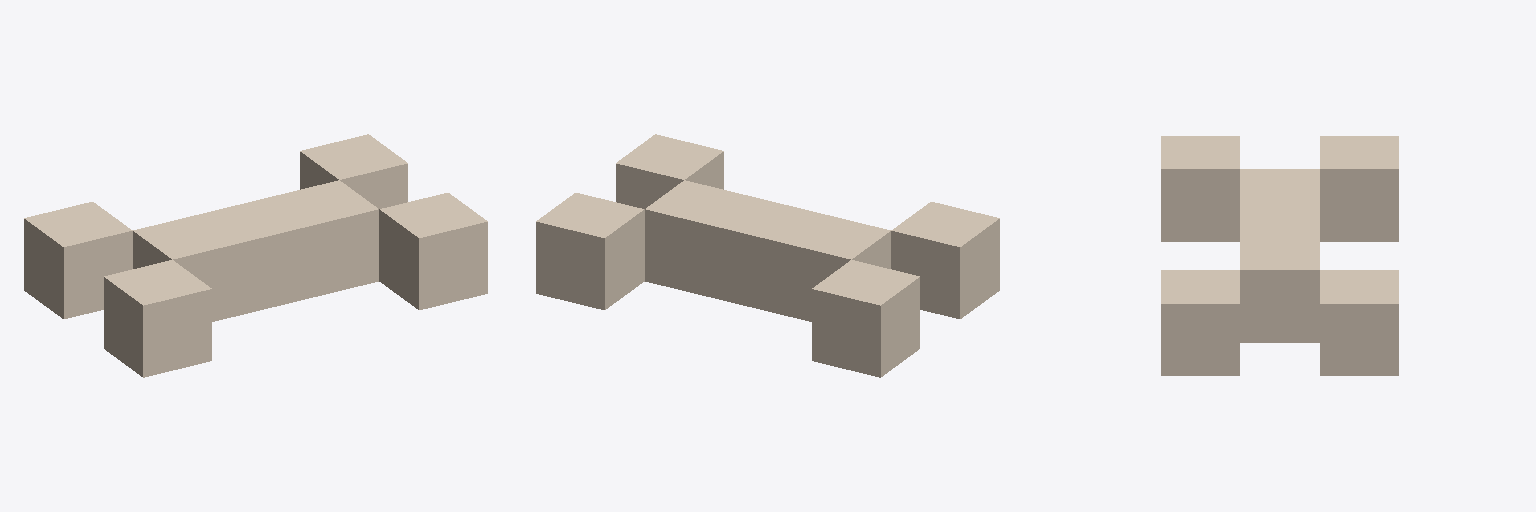
3 views of the same model, side by side, from view 1: azimuth 30°, elevation 25°; view 2: azimuth 150°, elevation 25°; view 3: azimuth 270°, elevation 25° (orthographic).
Visible parts, largest first — view 1: Matrix; view 2: Matrix; view 3: Matrix.
Boxes of the visible parts, box(x1,y1,x2,y2) form: Matrix: box(24, 134, 487, 377); Matrix: box(536, 134, 999, 377); Matrix: box(1161, 136, 1398, 375).
Size of the model in its own units: 5 by 1 by 3.
Materials: 1 (1 with a texture image).